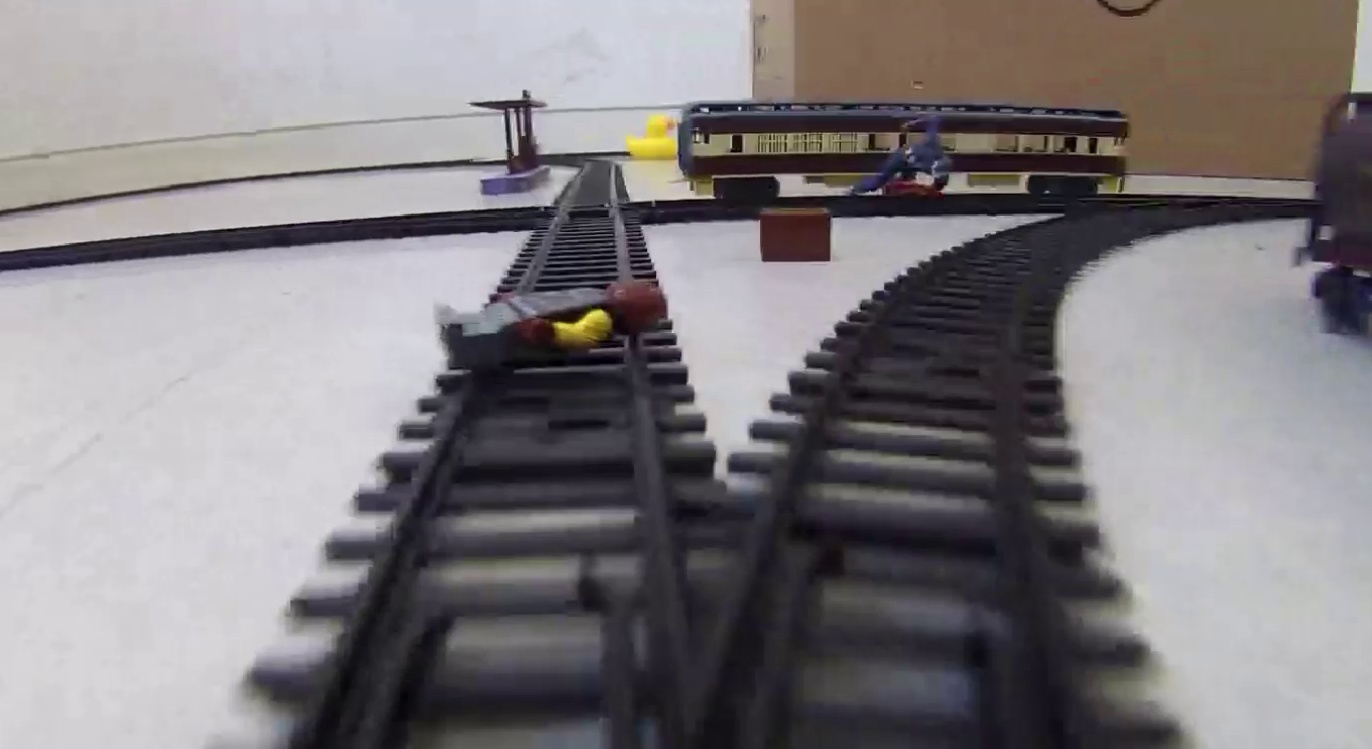box: (757, 203, 834, 265)
people: (435, 274, 673, 367)
